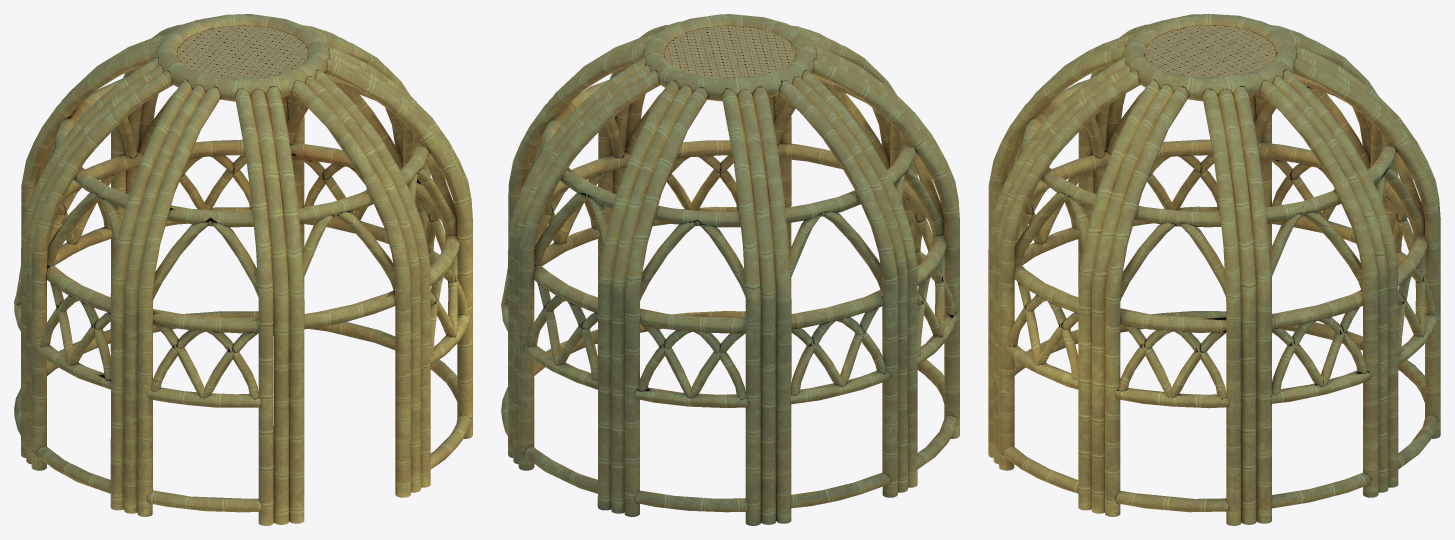
Rendered from BambooFrame_LOD2.glb.
The picture shows the model from 3 angles, left to right: view 1: azimuth 30°, elevation 25°; view 2: azimuth 150°, elevation 25°; view 3: azimuth 270°, elevation 25°; orthographic projection.
Parts seen in each view (by area): view 1: Bamboo Frame_PROCESSED.001_LOD2; view 2: Bamboo Frame_PROCESSED.001_LOD2; view 3: Bamboo Frame_PROCESSED.001_LOD2.
Part boxes in pixels (<box>): Bamboo Frame_PROCESSED.001_LOD2: <box>14,14,472,525</box>; Bamboo Frame_PROCESSED.001_LOD2: <box>501,14,959,525</box>; Bamboo Frame_PROCESSED.001_LOD2: <box>988,14,1440,525</box>.
Bounding box in the file's own units: 23.73 × 21.8 × 23.38.
2 materials, 2 textured.
